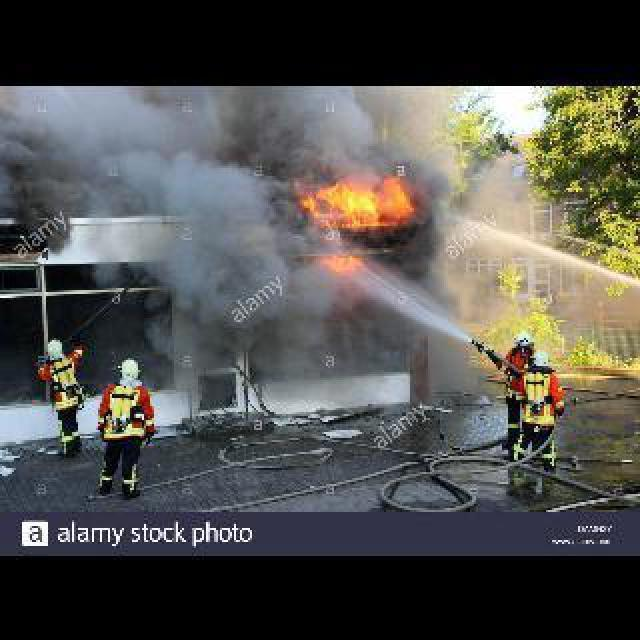Fire: (284, 170, 436, 264)
Smoke: (4, 173, 286, 356), (4, 83, 451, 172), (290, 269, 445, 396)
